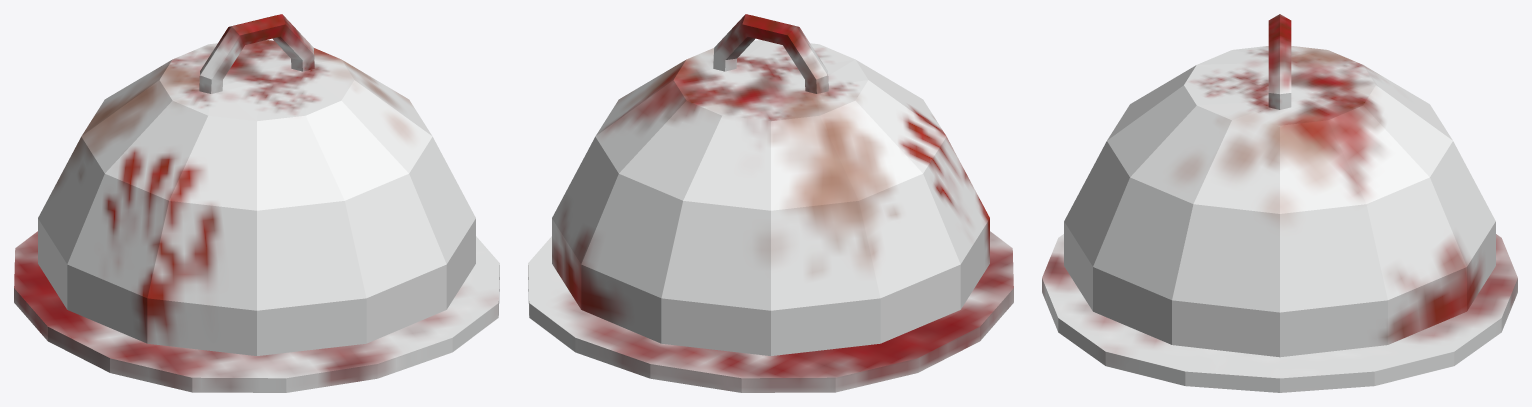
The model's file is Silver_Platter.fbx.
The picture shows the model from 3 angles, left to right: view 1: azimuth 30°, elevation 25°; view 2: azimuth 150°, elevation 25°; view 3: azimuth 270°, elevation 25°; orthographic projection.
Visible parts, largest first — view 1: Cover, Plate; view 2: Cover, Plate; view 3: Cover, Plate.
Boxes of the visible parts, x1,y1,x2,y2 form: Cover: (38, 14, 475, 355); Plate: (14, 231, 499, 392); Cover: (552, 14, 989, 355); Plate: (528, 231, 1013, 392); Cover: (1064, 14, 1495, 357); Plate: (1042, 234, 1517, 392).
Bounding box in the file's own units: 183 × 113 × 183.
2 materials, 2 textured.
